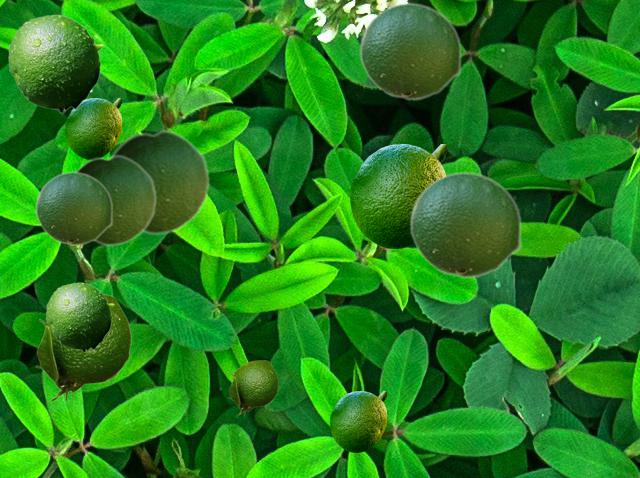dalandan: (409, 171, 521, 278), (109, 128, 209, 235), (35, 294, 130, 401), (359, 2, 461, 100), (350, 144, 445, 247), (8, 14, 103, 112), (75, 154, 156, 246), (35, 171, 112, 245), (46, 282, 113, 351), (65, 98, 120, 158), (330, 391, 385, 451), (228, 360, 277, 415)
